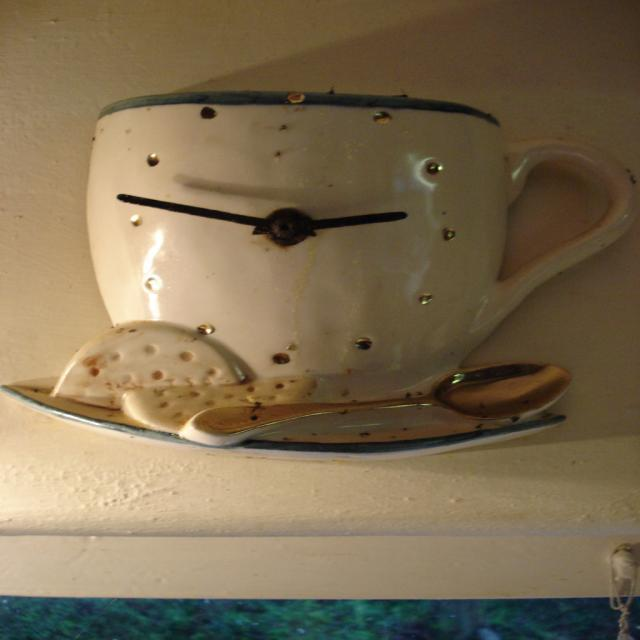ceramic plate: (0, 358, 589, 486)
